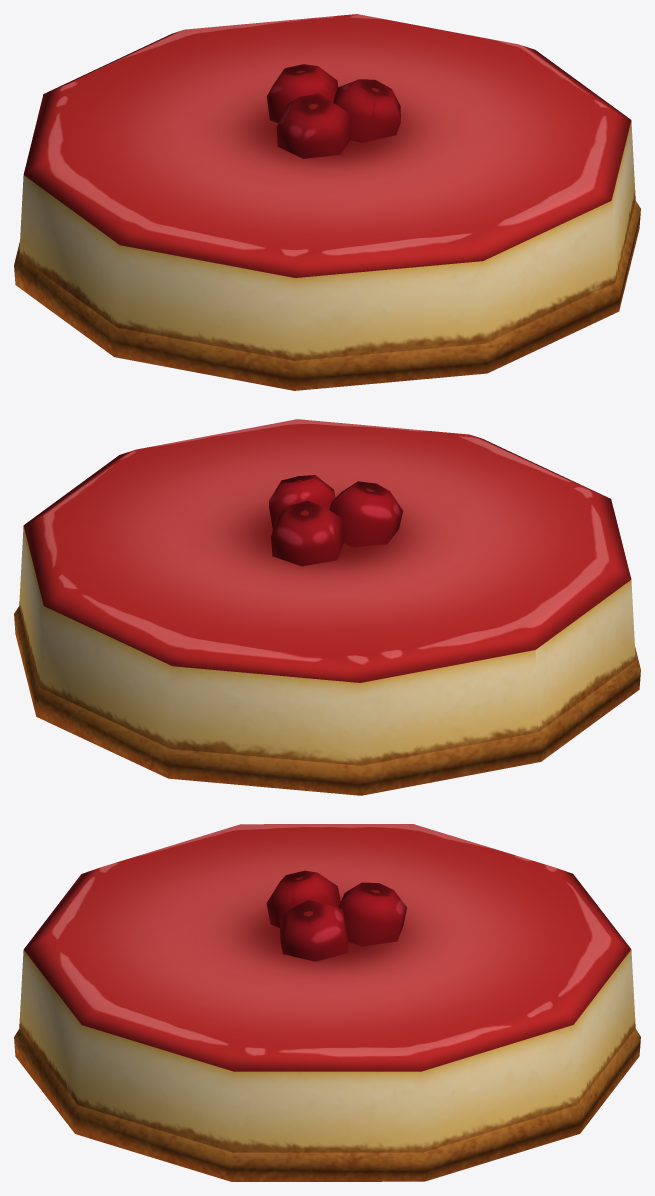
File: Cherry_Cheesecake_Whole.fbx
3 renders of one model, top to bottom at view 1: azimuth 30°, elevation 25°; view 2: azimuth 150°, elevation 25°; view 3: azimuth 270°, elevation 25°, orthographic. The views are drawn at different scales.
Visible parts, largest first — view 1: Cherry_Cheesecake_Whole; view 2: Cherry_Cheesecake_Whole; view 3: Cherry_Cheesecake_Whole.
Part boxes in pixels (left/top/right/bottom): Cherry_Cheesecake_Whole: left=14, top=14, right=640, bottom=390; Cherry_Cheesecake_Whole: left=14, top=419, right=640, bottom=795; Cherry_Cheesecake_Whole: left=14, top=824, right=640, bottom=1181.
Size of the model in its own units: 80 by 25.13 by 84.09.
